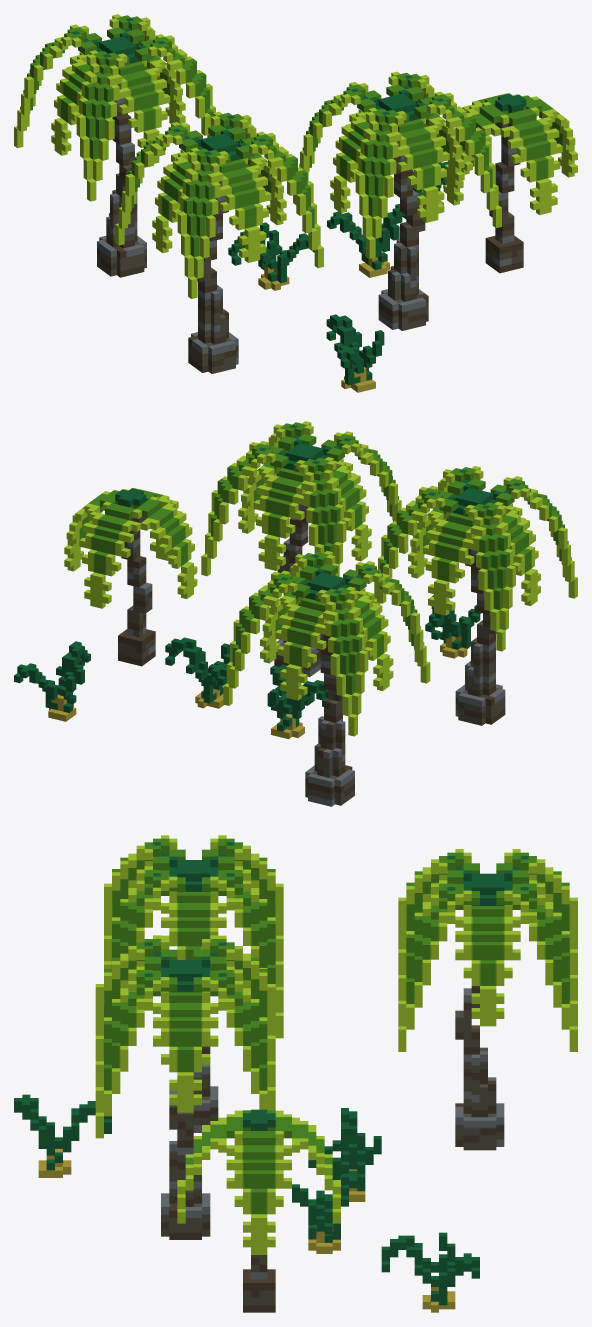
The model's file is palms_2_overtile.glb.
3 renders of one model, top to bottom at view 1: azimuth 30°, elevation 25°; view 2: azimuth 150°, elevation 25°; view 3: azimuth 270°, elevation 25°, orthographic. The views are drawn at different scales.
Parts seen in each view (by area): view 1: palms_2_overtile; view 2: palms_2_overtile; view 3: palms_2_overtile.
Boxes of the visible parts, x1=… form: palms_2_overtile: x1=14, y1=14, x2=577, y2=392; palms_2_overtile: x1=14, y1=421, x2=577, y2=806; palms_2_overtile: x1=14, y1=835, x2=577, y2=1312.
Size of the model in its own units: 7.4 by 3.6 by 6.9.
Materials: 1 (1 with a texture image).
